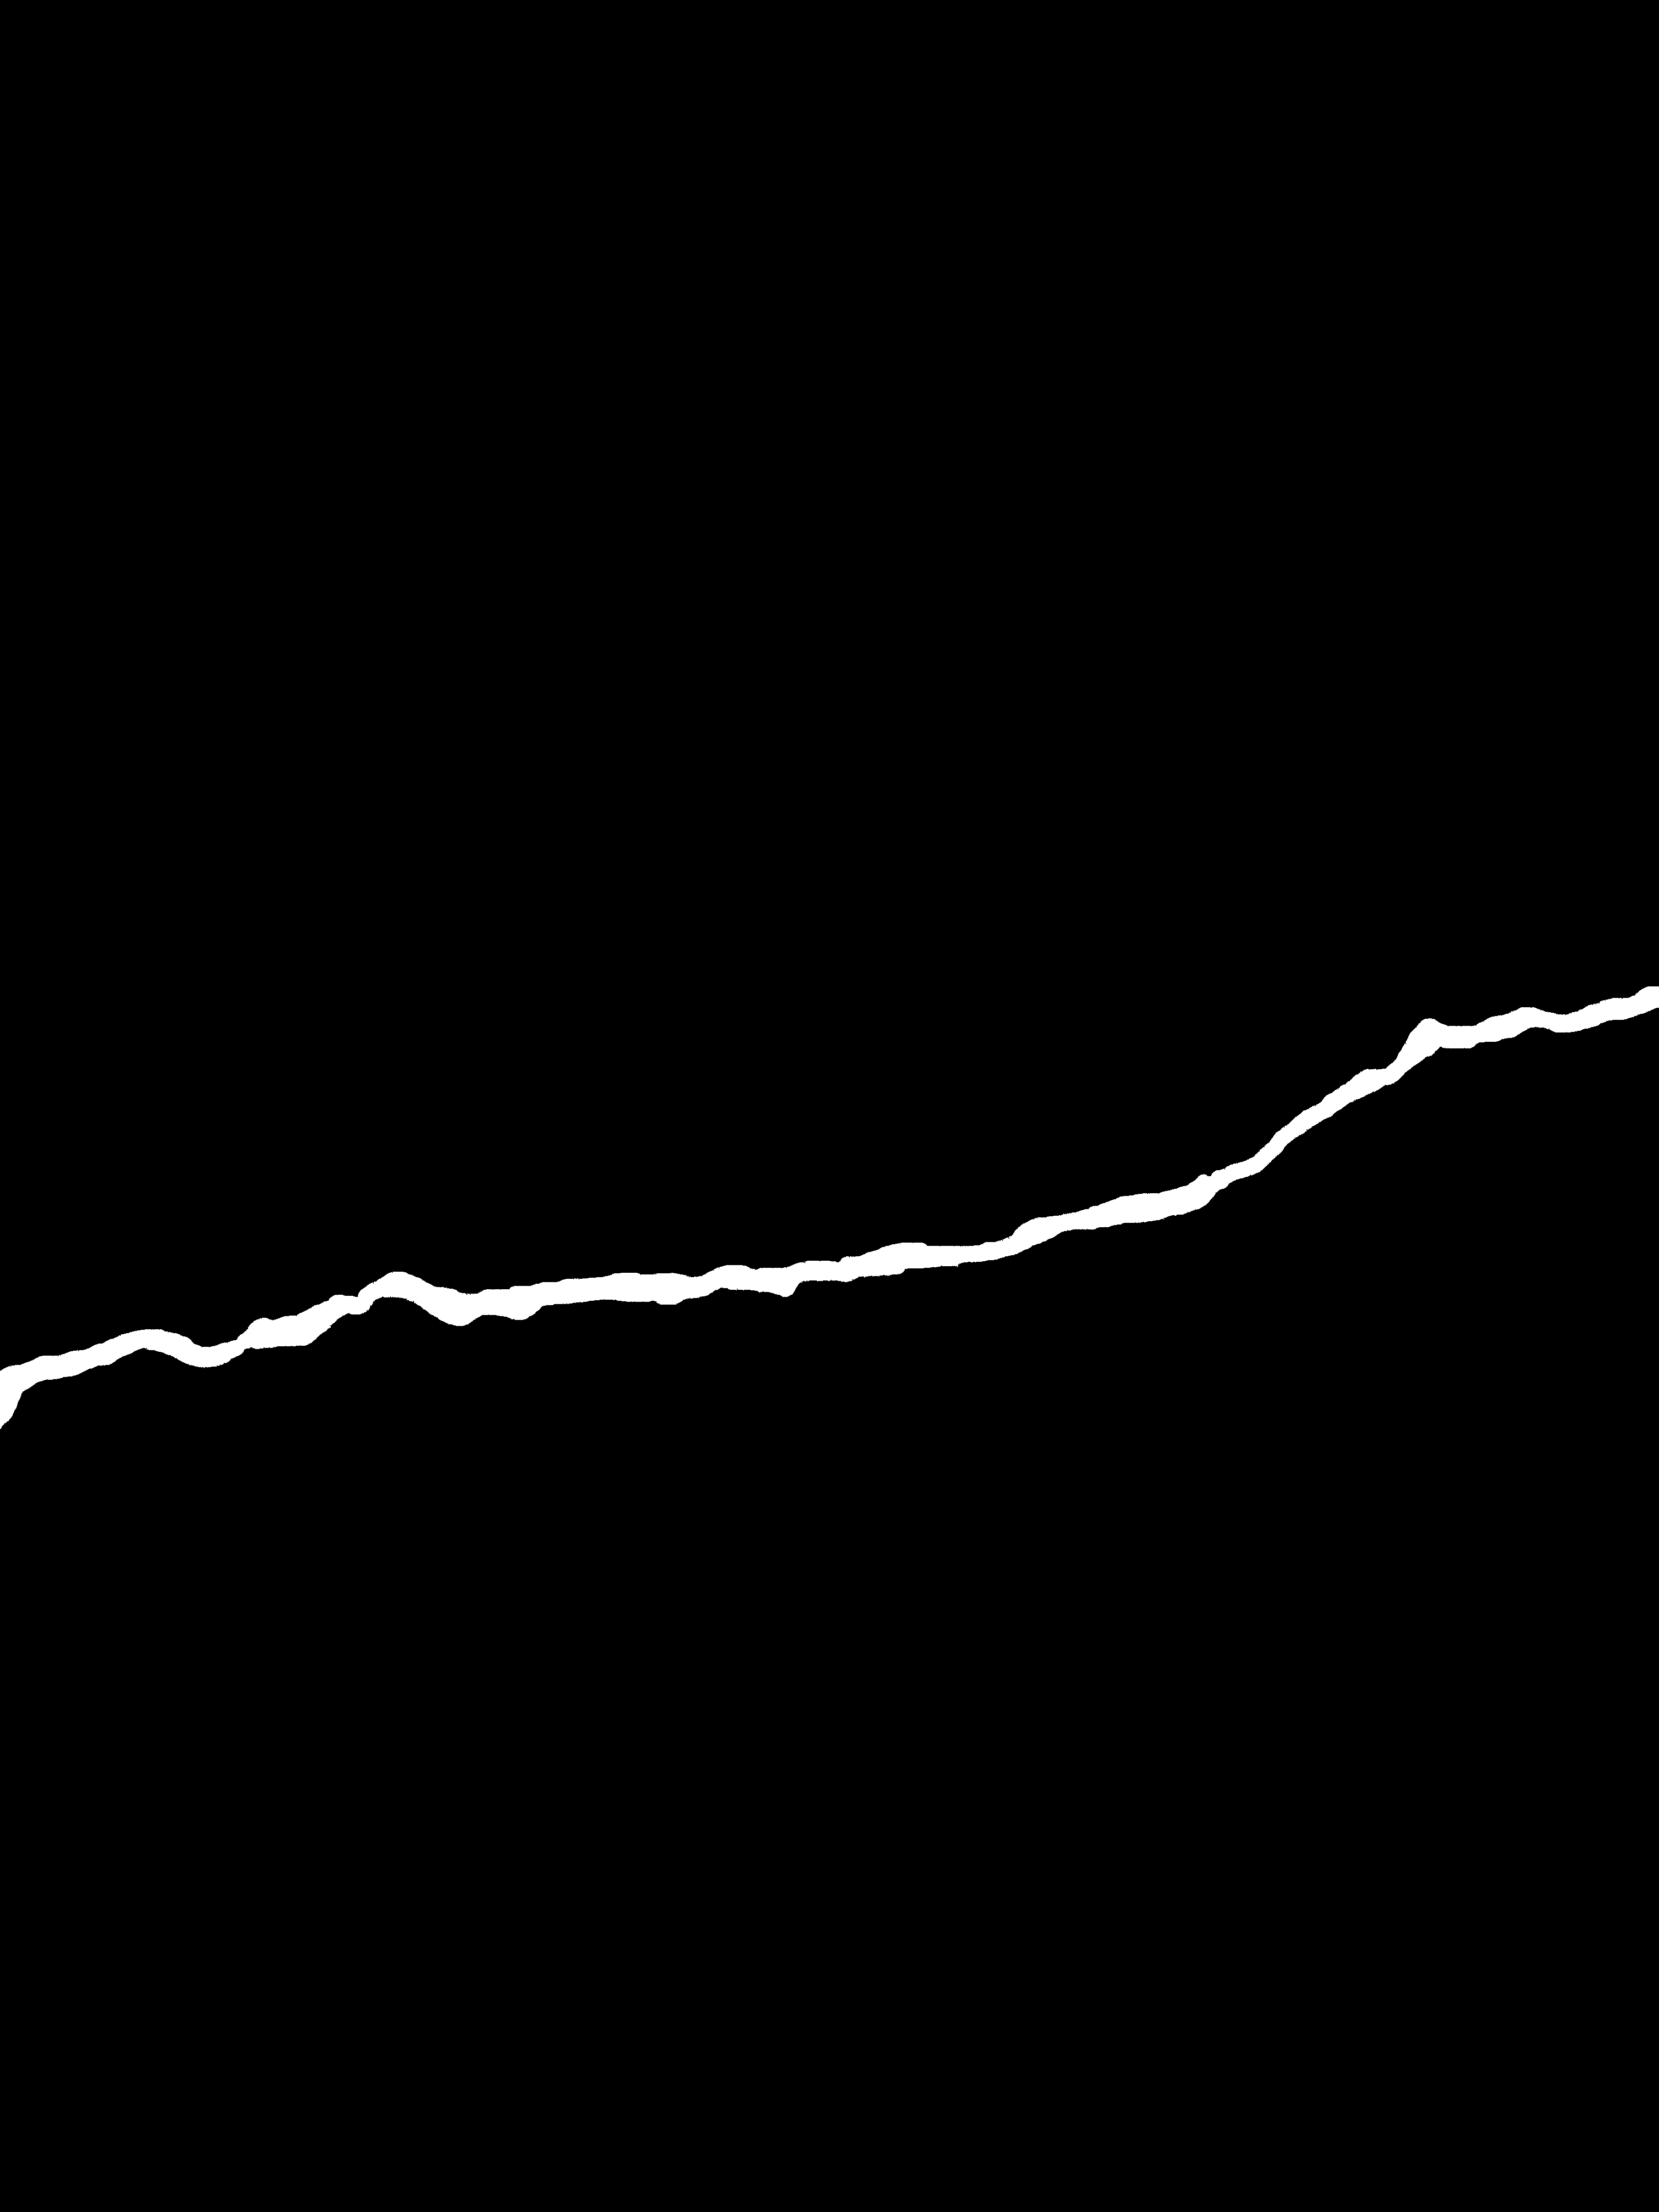Crack: (0, 949, 1659, 1449)
